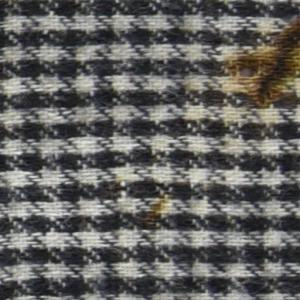Damage: (222, 20, 300, 112)
Oil Stain: (104, 10, 300, 230)
